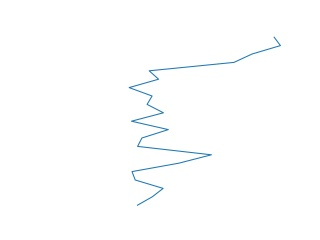crevasseRiverChannelBar: (126, 35, 284, 208)
